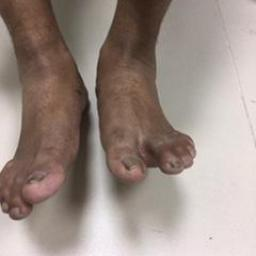Front View -Both Feet-: (2, 22, 211, 232)
